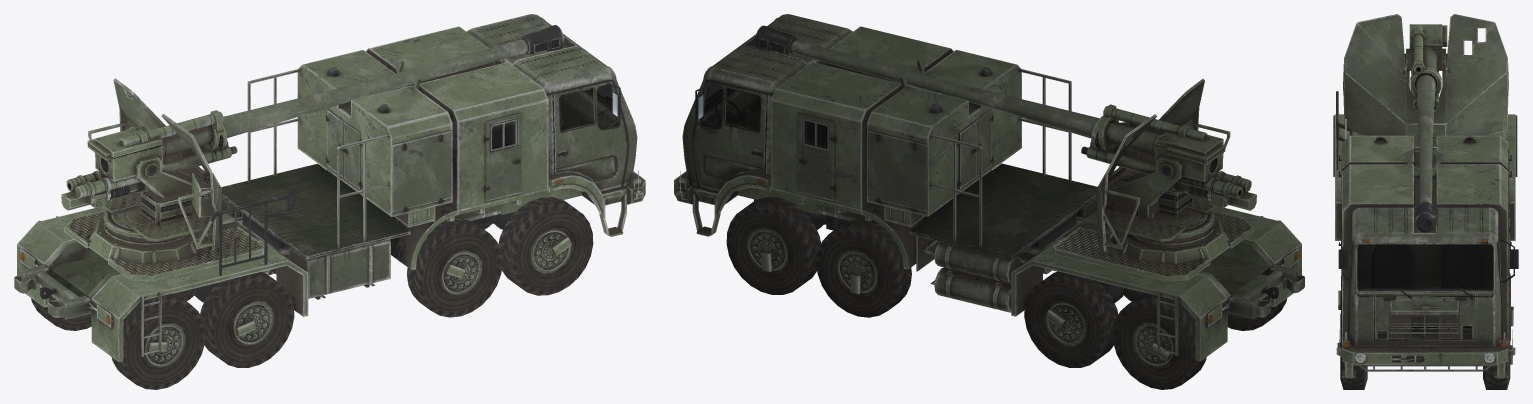
File: so-155_nora-b.glb
The picture shows the model from 3 angles, left to right: view 1: azimuth 30°, elevation 25°; view 2: azimuth 150°, elevation 25°; view 3: azimuth 270°, elevation 25°; orthographic projection. The views are drawn at different scales.
Visible parts, largest first — view 1: mesh_158_mat_29_0, mesh_159_mat_30_0, mesh_84_mat_5_0; view 2: mesh_158_mat_29_0, mesh_159_mat_30_0, mesh_84_mat_5_0; view 3: mesh_158_mat_29_0, mesh_159_mat_30_0, mesh_84_mat_5_0.
Boxes of the visible parts, x1,y1,x2,y2 form: mesh_158_mat_29_0: (14,14,645,389); mesh_159_mat_30_0: (61,25,564,281); mesh_84_mat_5_0: (560,84,618,130); mesh_158_mat_29_0: (674,14,1304,389); mesh_159_mat_30_0: (754,25,1256,281); mesh_84_mat_5_0: (700,85,759,130); mesh_158_mat_29_0: (1333,114,1518,389); mesh_159_mat_30_0: (1336,14,1508,232); mesh_84_mat_5_0: (1357,244,1493,290).
Bounding box in the file's own units: 190 × 77.77 × 60.05.
Materials: 3 (2 with a texture image).
